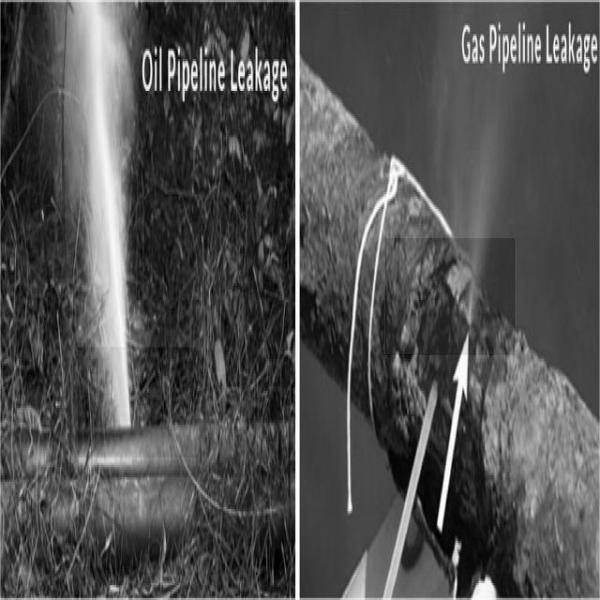gas: (384, 238, 516, 354)
water: (78, 347, 196, 457)
